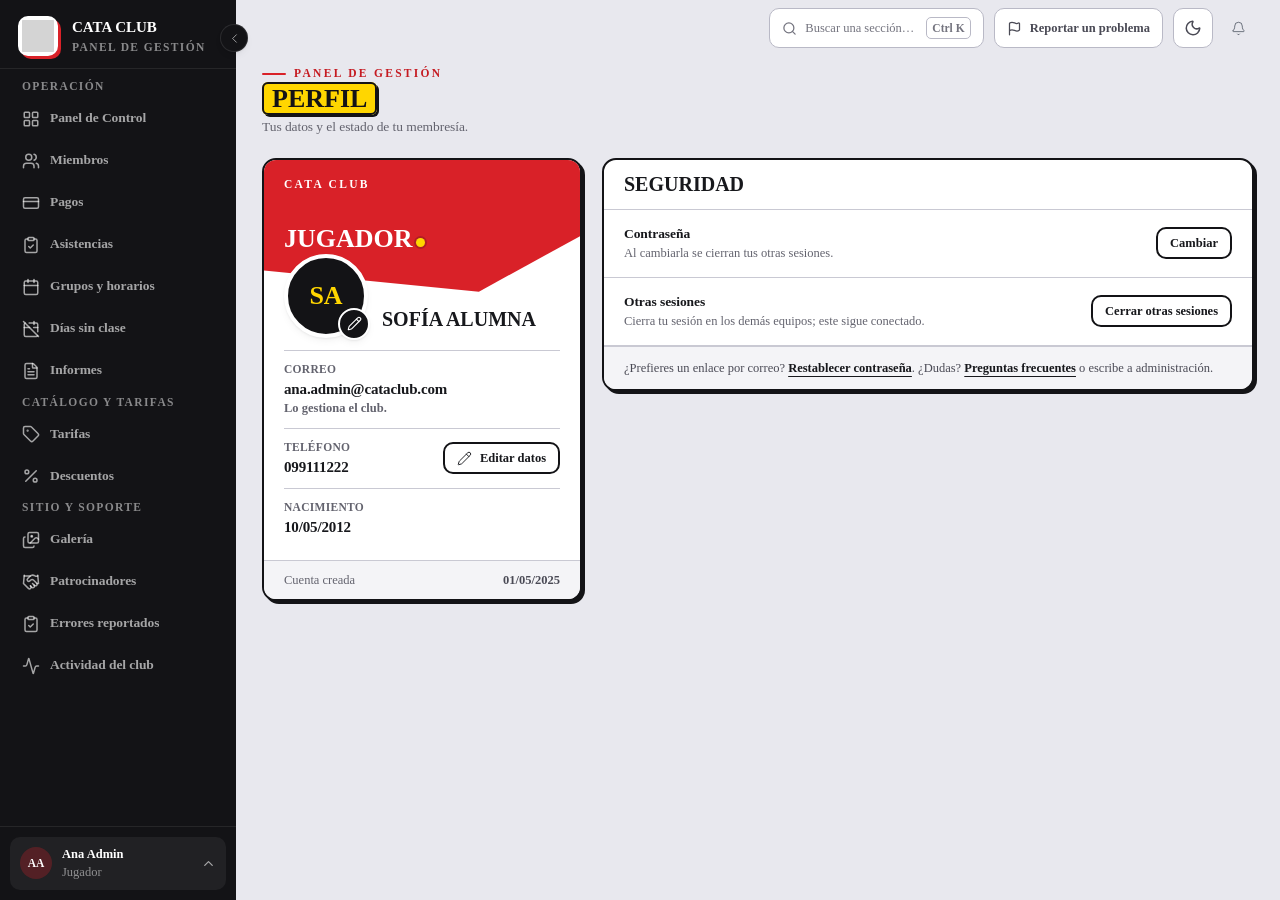
Test: ProfilePage — inline teléfono edit (correo is read-only) › lets an jugador edit their own teléfono through the same self-service PATCH as staff
Click the button "Editar datos": (501, 458) [443, 442, 560, 474]
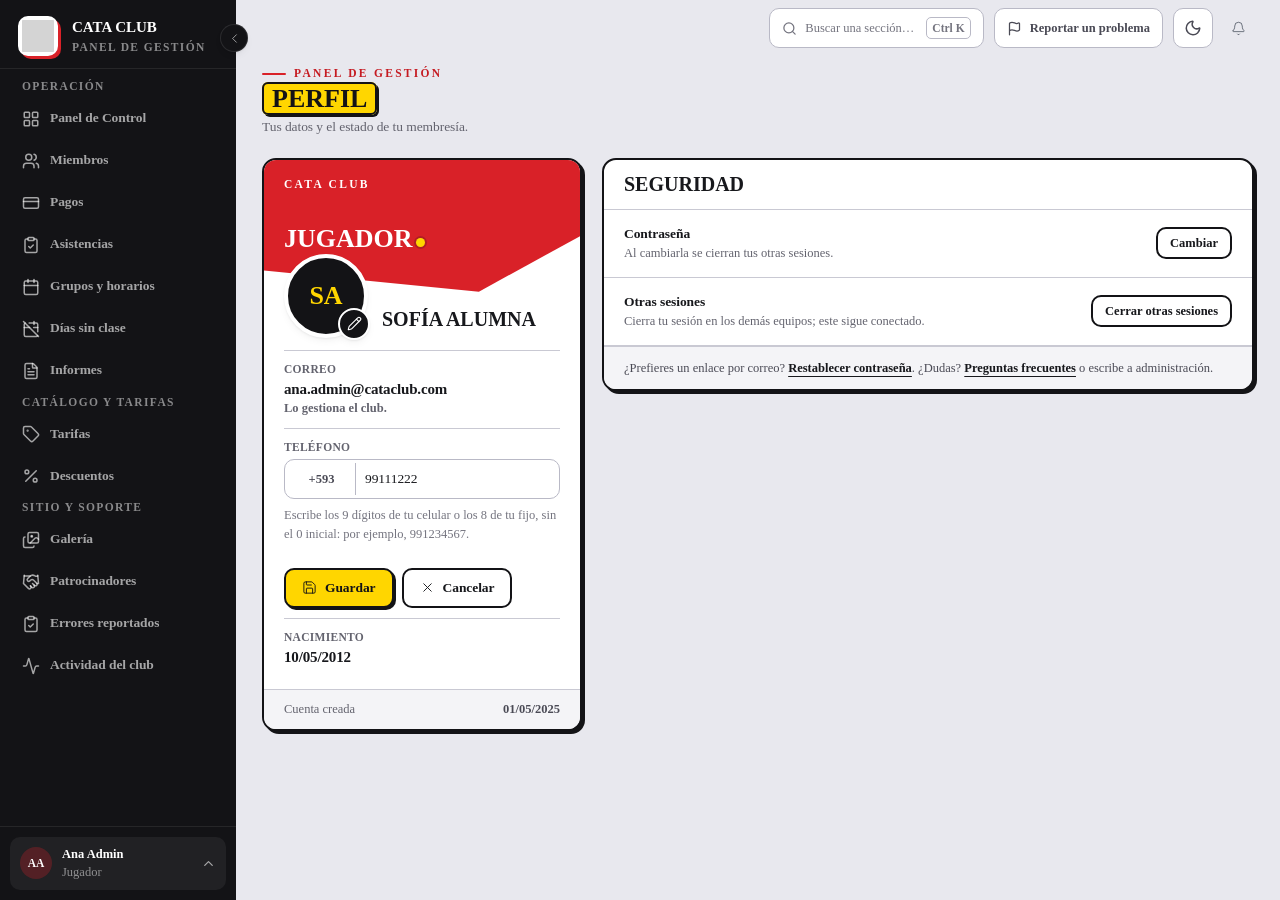
Expected: the field named "teléfono" holds "99111222"
Replace the text in the field named "teléfono" with "0991234567": (422, 479) [284, 459, 560, 499]
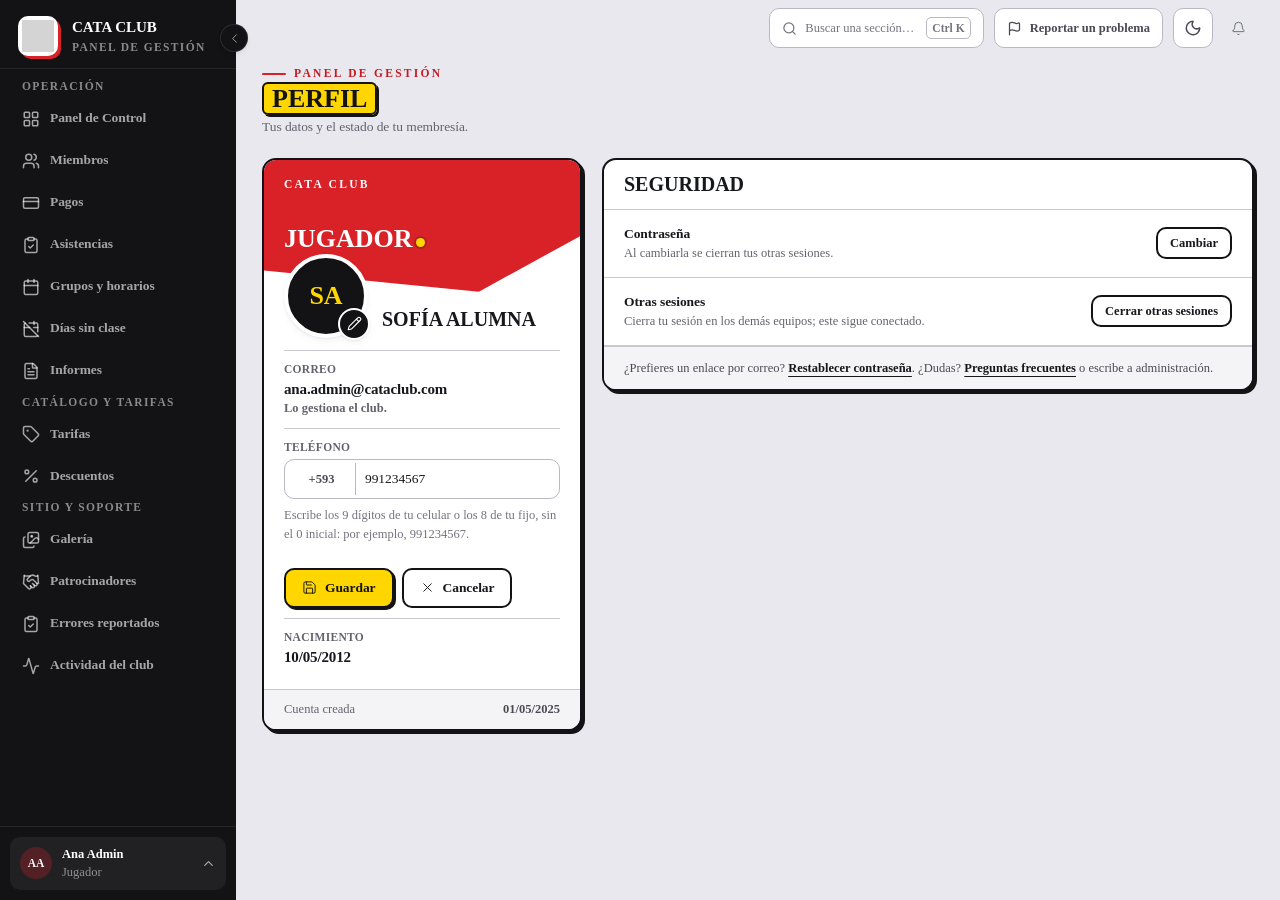
Click the button "Guardar": (339, 588) [284, 568, 394, 608]
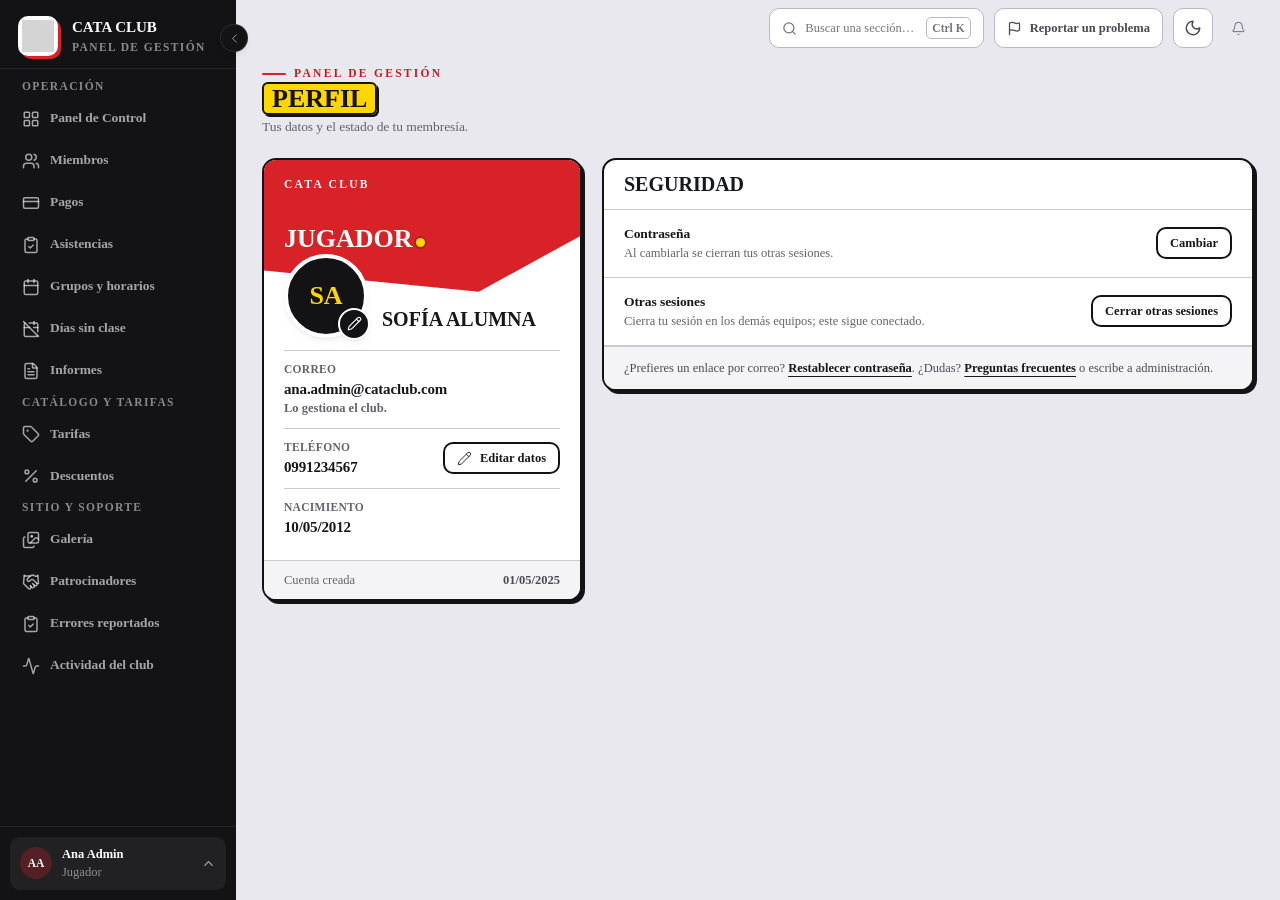
Expected: the text "0991234567" is shown, [284, 457, 358, 478]
